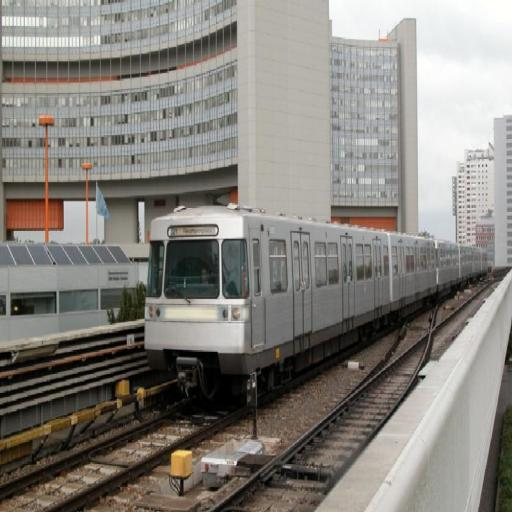Silberpfeil: (145, 204, 486, 373)
